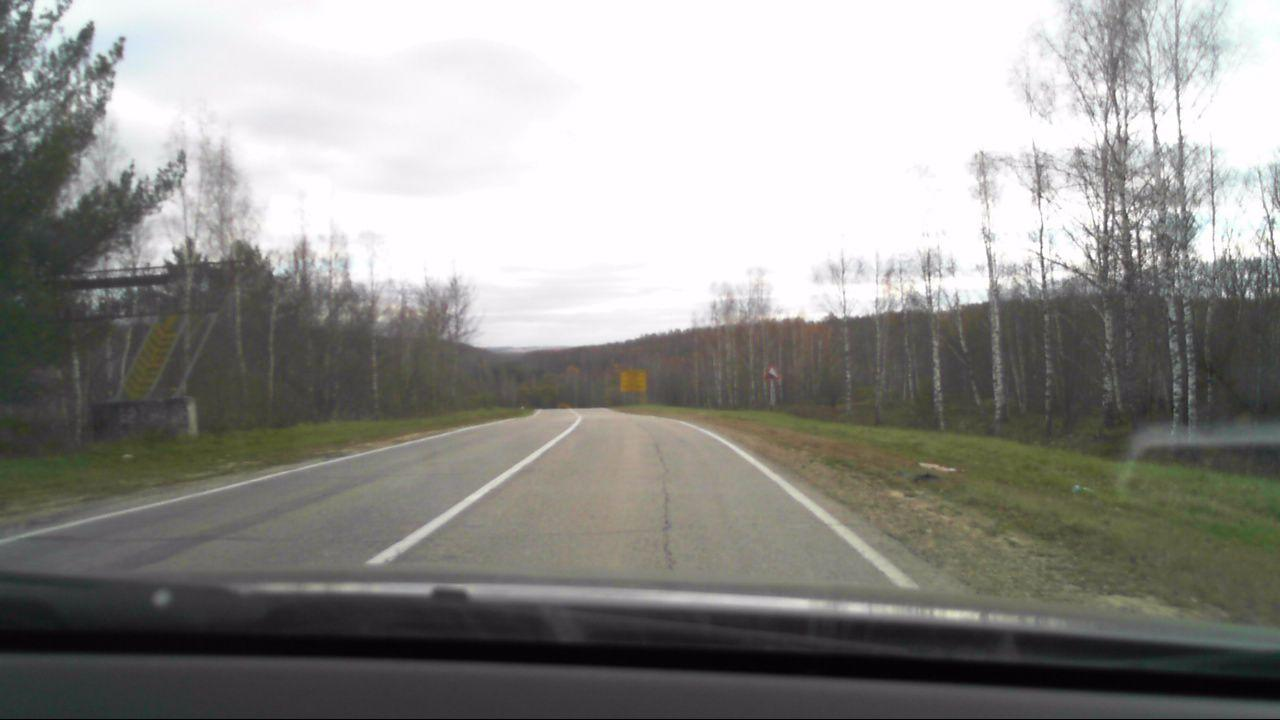1_13: (763, 366, 783, 384)
